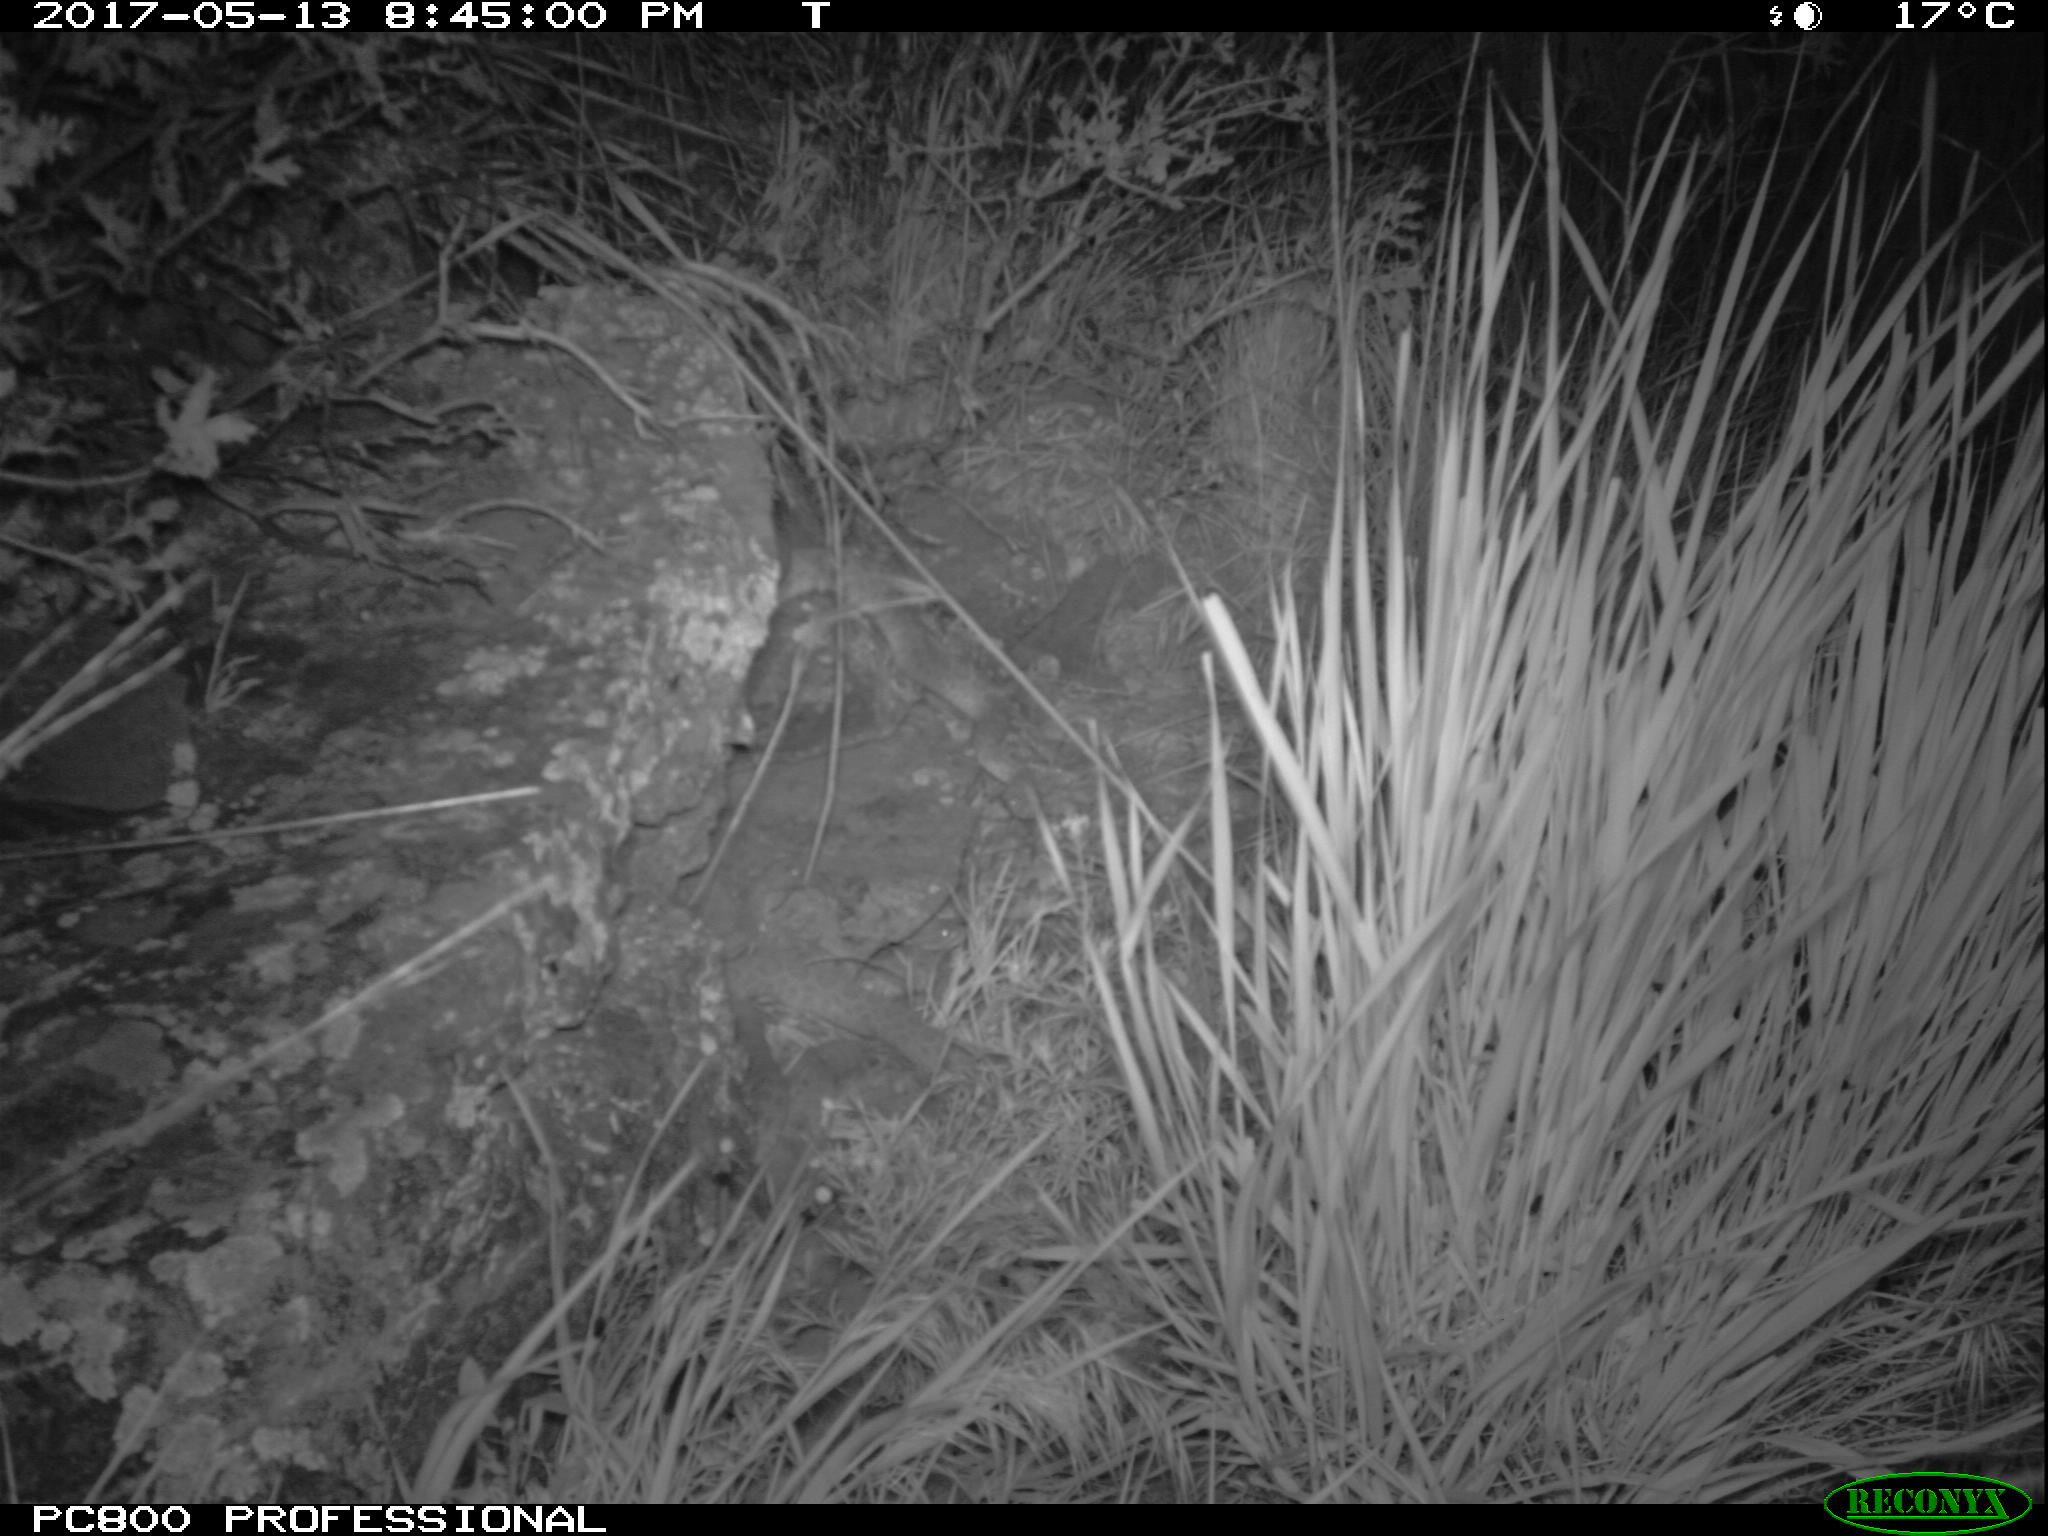snake: (780, 544, 1018, 724), (763, 949, 972, 1083)
